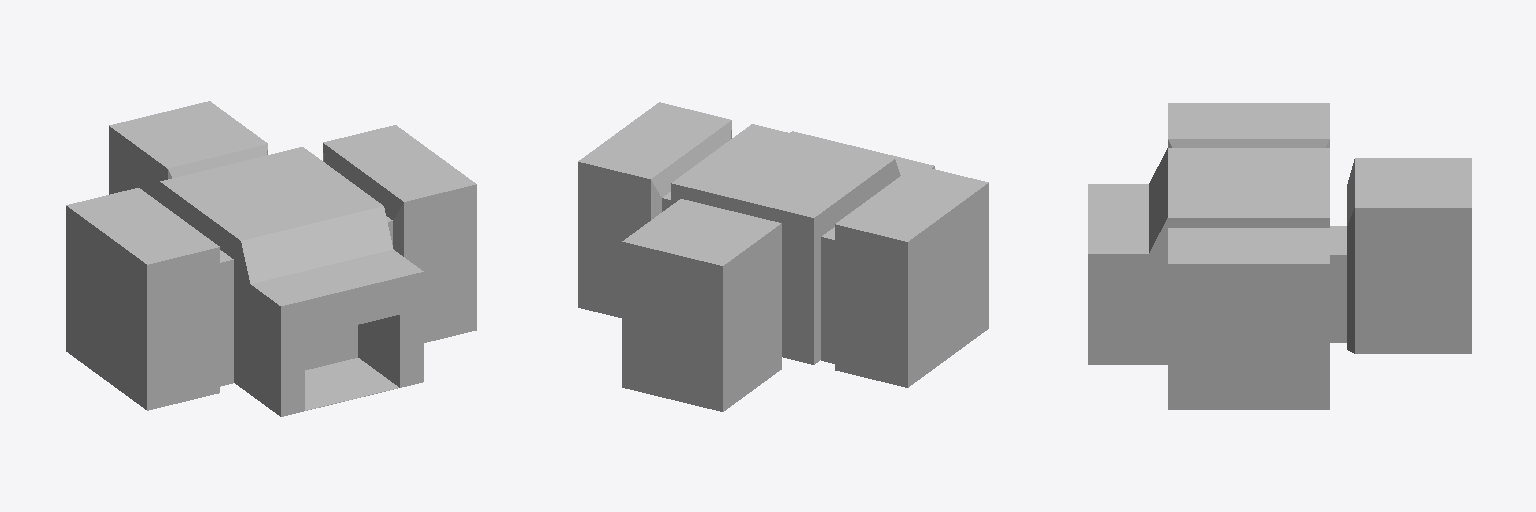
File: building2.obj
The picture shows the model from 3 angles: view 1: azimuth 30°, elevation 25°; view 2: azimuth 150°, elevation 25°; view 3: azimuth 270°, elevation 25°; orthographic projection.
Visible parts, largest first — view 1: Cube.001; view 2: Cube.001; view 3: Cube.001.
Part boxes in pixels (left/top/right/bottom): Cube.001: left=66, top=101, right=476, bottom=416; Cube.001: left=578, top=102, right=988, bottom=411; Cube.001: left=1088, top=103, right=1471, bottom=409.
Size of the model in its own units: 1.19 by 0.5081 by 1.2.